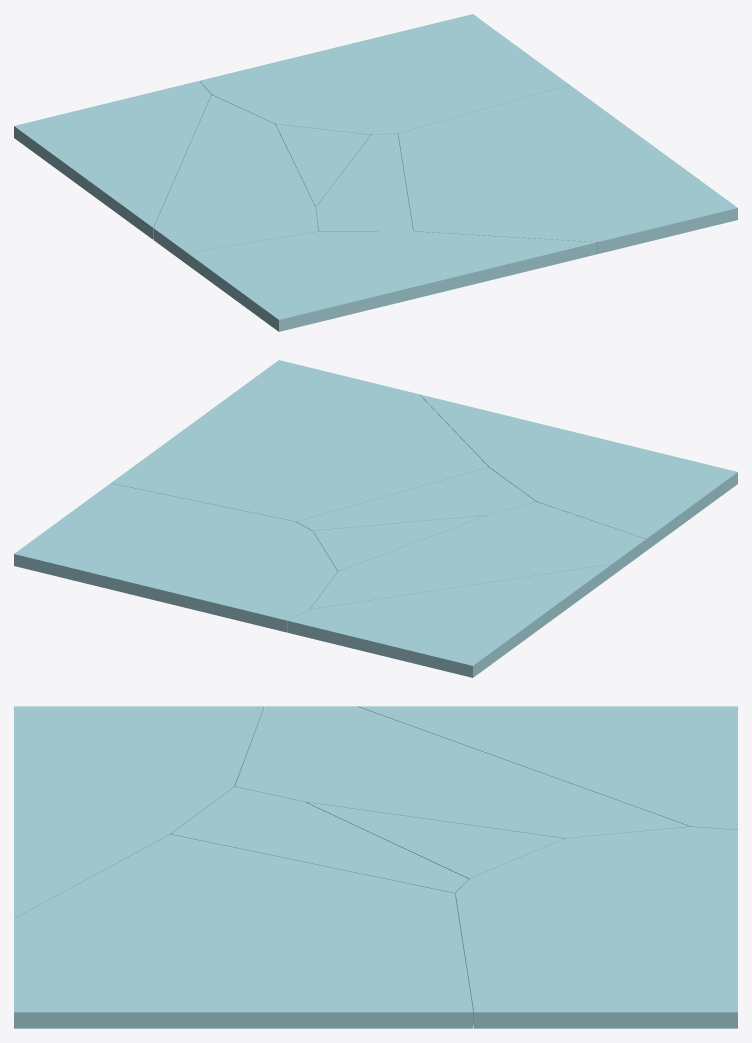
The model's file is Shattered_Glass.fbx.
The picture shows the model from 3 angles, top to bottom: view 1: azimuth 30°, elevation 25°; view 2: azimuth 150°, elevation 25°; view 3: azimuth 270°, elevation 25°; orthographic projection. The views are drawn at different scales.
Parts seen in each view (by area): view 1: Glass_Shattered_cell5, Glass_Shattered_cell4, Glass_Shattered_cell2, Glass_Shattered_cell1, Glass_Shattered_cell6, Glass_Shattered_cell, Glass_Shattered_cell3; view 2: Glass_Shattered_cell5, Glass_Shattered_cell4, Glass_Shattered_cell2, Glass_Shattered_cell6, Glass_Shattered_cell1, Glass_Shattered_cell, Glass_Shattered_cell3; view 3: Glass_Shattered_cell5, Glass_Shattered_cell4, Glass_Shattered_cell2, Glass_Shattered_cell1, Glass_Shattered_cell6, Glass_Shattered_cell, Glass_Shattered_cell3.
Part boxes in pixels (x1,y1,x2,y2): Glass_Shattered_cell5: [398, 85, 737, 253]; Glass_Shattered_cell4: [200, 14, 569, 135]; Glass_Shattered_cell2: [187, 231, 597, 331]; Glass_Shattered_cell1: [153, 95, 318, 264]; Glass_Shattered_cell6: [14, 81, 211, 239]; Glass_Shattered_cell: [316, 133, 412, 231]; Glass_Shattered_cell3: [275, 124, 370, 209]; Glass_Shattered_cell5: [111, 360, 488, 521]; Glass_Shattered_cell4: [14, 483, 337, 632]; Glass_Shattered_cell2: [419, 394, 737, 550]; Glass_Shattered_cell6: [287, 564, 611, 677]; Glass_Shattered_cell1: [310, 502, 646, 609]; Glass_Shattered_cell: [296, 467, 536, 531]; Glass_Shattered_cell3: [313, 515, 486, 571]; Glass_Shattered_cell5: [14, 834, 473, 1028]; Glass_Shattered_cell4: [455, 826, 737, 1028]; Glass_Shattered_cell2: [14, 706, 263, 918]; Glass_Shattered_cell1: [235, 706, 689, 838]; Glass_Shattered_cell6: [358, 706, 737, 829]; Glass_Shattered_cell: [171, 787, 468, 896]; Glass_Shattered_cell3: [306, 802, 564, 879].
Size of the model in its own units: 200 by 5 by 200.
